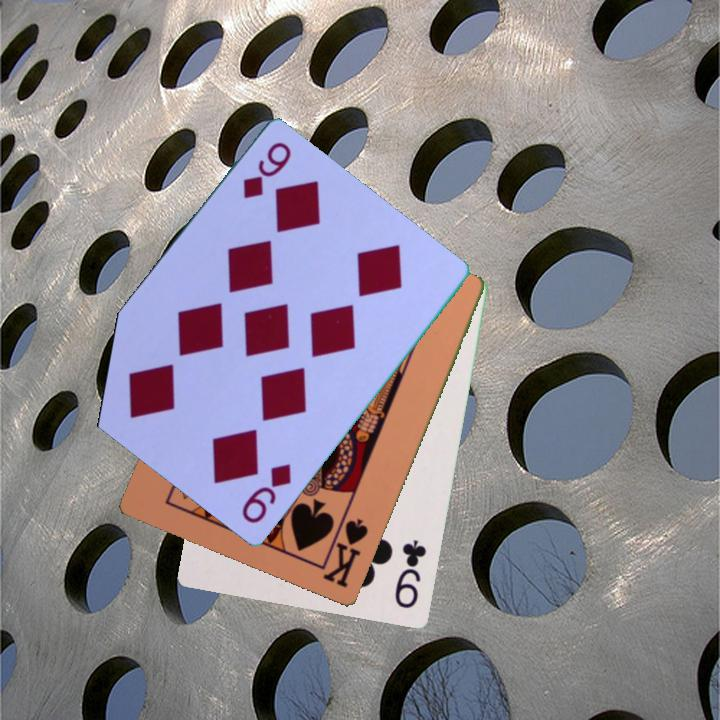9c: (391, 536, 430, 612)
9d: (238, 460, 295, 527), (239, 139, 295, 203)
Ks: (319, 515, 372, 592)
